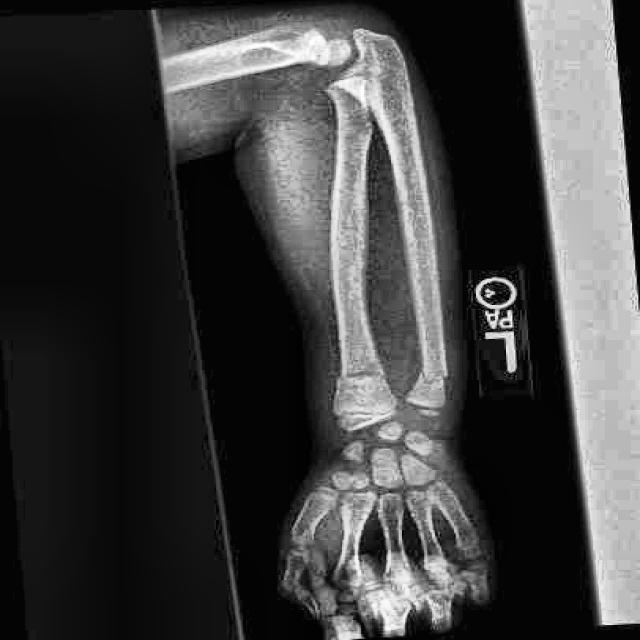forearm fracture: (318, 340, 409, 406), (384, 356, 467, 421)
